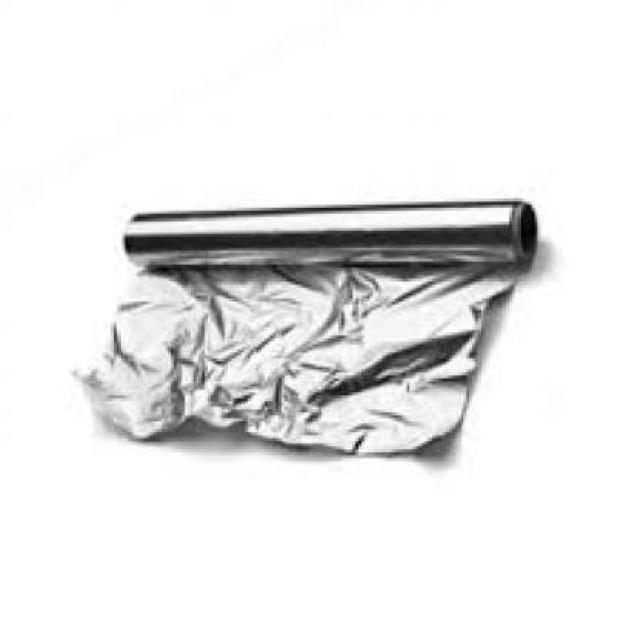METAL: (68, 196, 534, 458)
